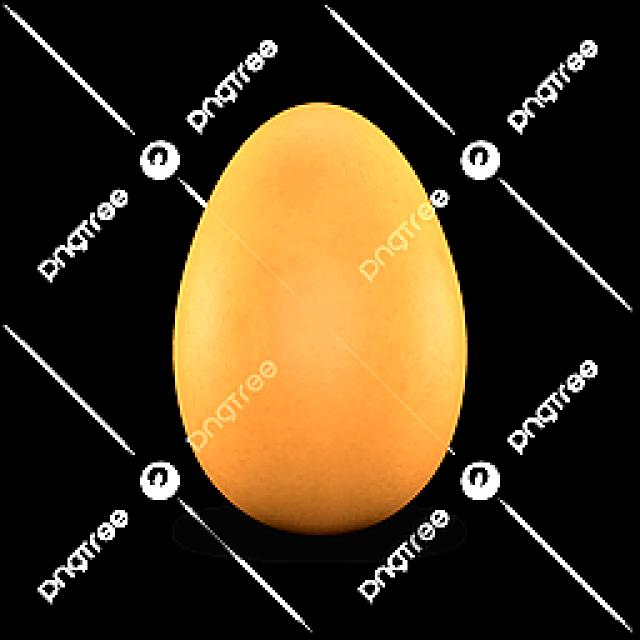Eggs: (168, 100, 472, 536)
